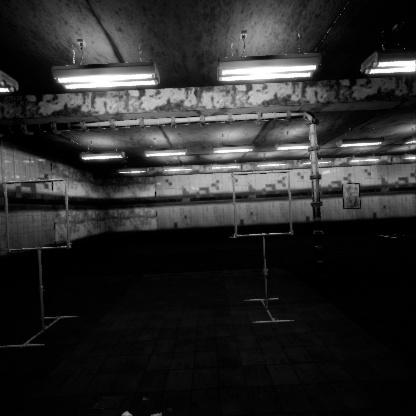gate: (4, 163, 76, 237), (232, 177, 298, 246)
